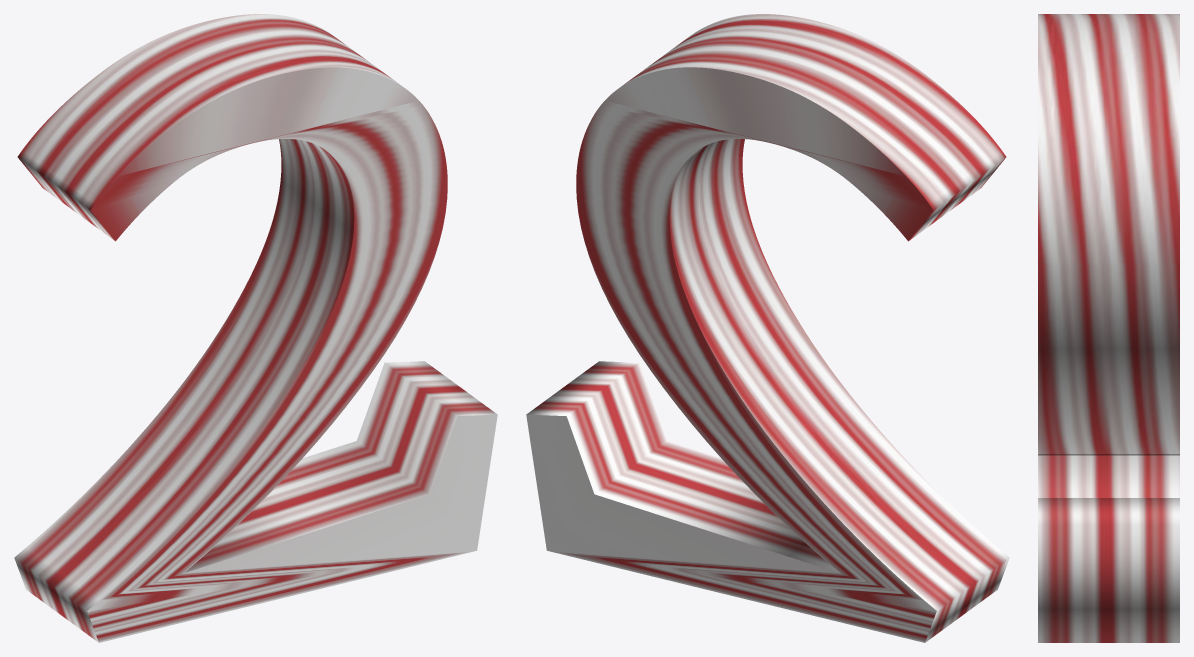
3 renders of one model, left to right at view 1: azimuth 30°, elevation 25°; view 2: azimuth 150°, elevation 25°; view 3: azimuth 270°, elevation 25°, orthographic. The views are drawn at different scales.
Parts seen in each view (by area): view 1: Text.010; view 2: Text.010; view 3: Text.010.
Part boxes in pixels (x1=…): Text.010: x1=14, y1=14, x2=497, y2=642; Text.010: x1=526, y1=14, x2=1009, y2=642; Text.010: x1=1038, y1=14, x2=1179, y2=642.
Size of the model in its own units: 0.3904 by 0.4763 by 0.12.
1 material, 1 textured.
